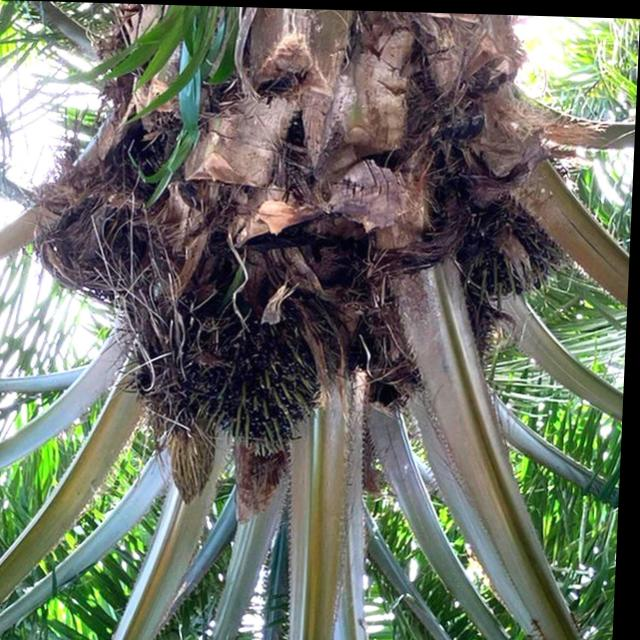unripe: (178, 308, 339, 462)
